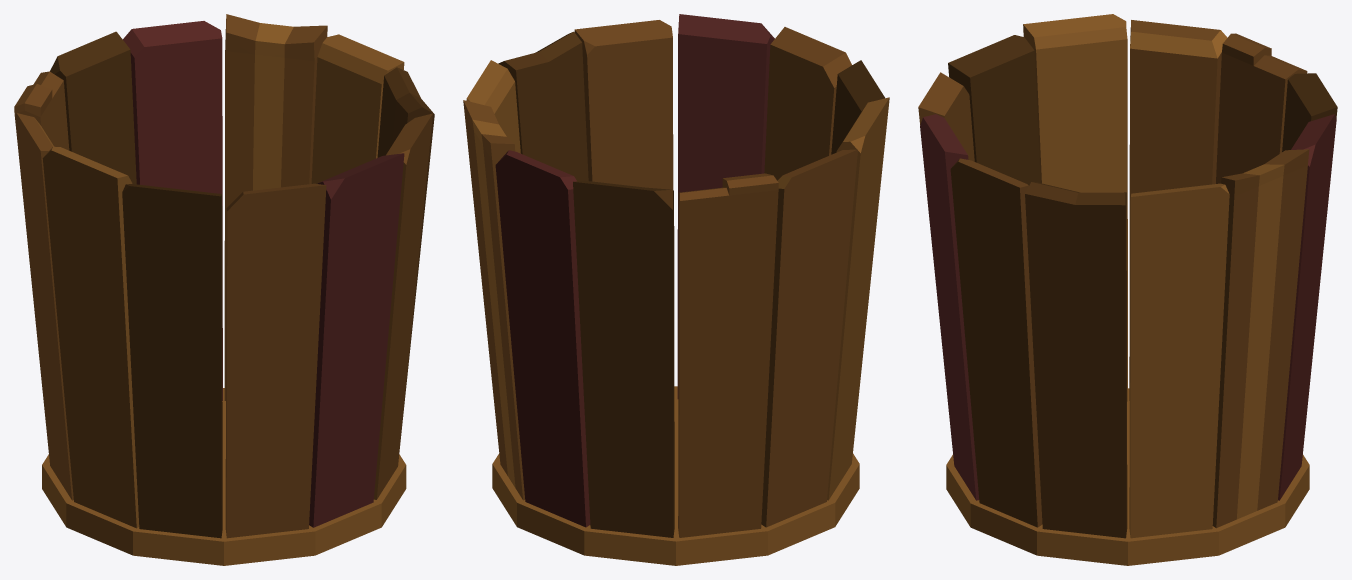
File: Bucket.fbx
3 renders of one model, left to right at view 1: azimuth 30°, elevation 25°; view 2: azimuth 150°, elevation 25°; view 3: azimuth 270°, elevation 25°, orthographic.
Parts seen in each view (by area): view 1: Bucket; view 2: Bucket; view 3: Bucket.
Boxes of the visible parts, x1=… form: Bucket: x1=14, y1=14, x2=434, y2=565; Bucket: x1=463, y1=14, x2=889, y2=565; Bucket: x1=918, y1=14, x2=1337, y2=565.
Size of the model in its own units: 5.15 by 5.24 by 5.14.
